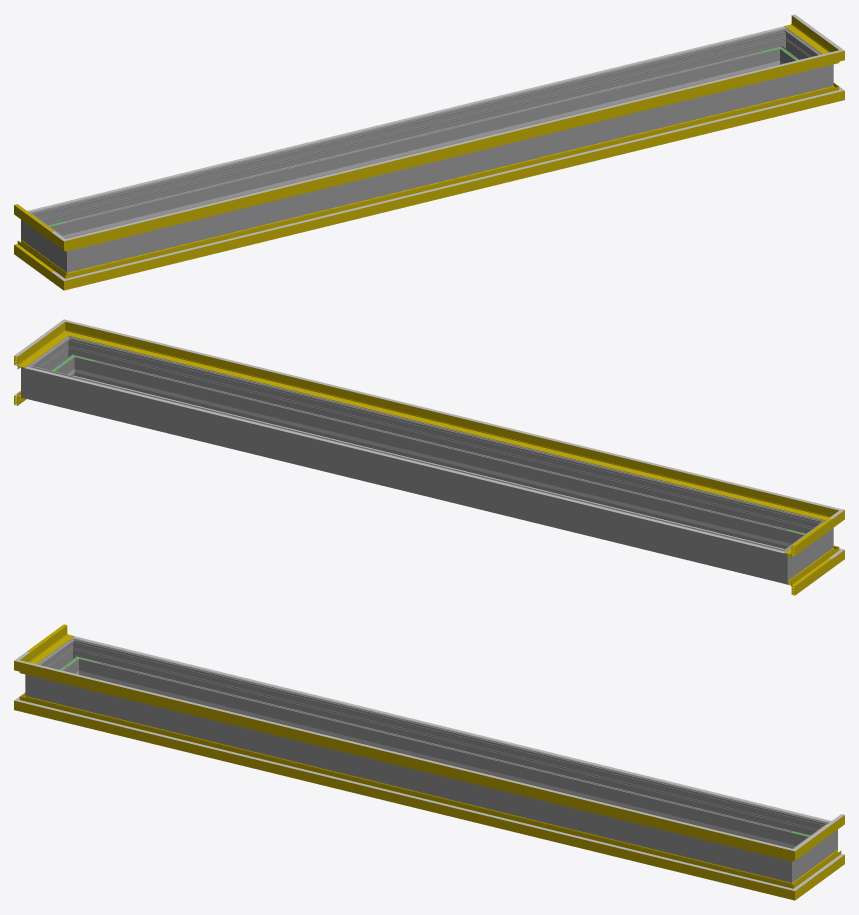
3 renders of one model, top to bottom at view 1: azimuth 30°, elevation 25°; view 2: azimuth 150°, elevation 25°; view 3: azimuth 330°, elevation 25°, orthographic.
Parts seen in each view (by area): view 1: 3DGeom-276, 3DGeom-298, 3DGeom-90, 3DGeom-56, 3DGeom-244, 3DGeom-220, 3DGeom-66, 3DGeom-100, 3DGeom-270, 3DGeom-85, 3DGeom-58, 3DGeom-284 (+1 smaller); view 2: 3DGeom-298, 3DGeom-276, 3DGeom-56, 3DGeom-239, 3DGeom-220, 3DGeom-66, 3DGeom-278, 3DGeom-284, 3DGeom-85, 3DGeom-58, 3DGeom-290, 3DGeom-297; view 3: 3DGeom-276, 3DGeom-298, 3DGeom-90, 3DGeom-56, 3DGeom-244, 3DGeom-220, 3DGeom-66, 3DGeom-100, 3DGeom-290, 3DGeom-97, 3DGeom-50, 3DGeom-278 (+1 smaller).
Part boxes in pixels (bbox=[...]): 3DGeom-276: bbox=[44, 32, 776, 238]; 3DGeom-298: bbox=[88, 70, 811, 267]; 3DGeom-90: bbox=[81, 89, 823, 284]; 3DGeom-56: bbox=[83, 56, 823, 247]; 3DGeom-244: bbox=[70, 66, 758, 237]; 3DGeom-220: bbox=[27, 26, 785, 212]; 3DGeom-66: bbox=[84, 55, 822, 235]; 3DGeom-100: bbox=[84, 94, 822, 275]; 3DGeom-270: bbox=[54, 235, 88, 272]; 3DGeom-85: bbox=[14, 239, 58, 280]; 3DGeom-58: bbox=[784, 15, 828, 53]; 3DGeom-284: bbox=[768, 28, 796, 65]; 3DGeom-298: bbox=[78, 340, 809, 549]; 3DGeom-276: bbox=[42, 369, 769, 579]; 3DGeom-56: bbox=[79, 326, 821, 518]; 3DGeom-239: bbox=[95, 374, 783, 545]; 3DGeom-220: bbox=[25, 366, 785, 553]; 3DGeom-66: bbox=[84, 324, 822, 505]; 3DGeom-278: bbox=[766, 543, 800, 584]; 3DGeom-284: bbox=[21, 359, 46, 402]; 3DGeom-85: bbox=[787, 554, 832, 595]; 3DGeom-58: bbox=[14, 329, 61, 369]; 3DGeom-290: bbox=[58, 336, 86, 376]; 3DGeom-297: bbox=[37, 343, 72, 375]; 3DGeom-276: bbox=[82, 642, 814, 848]; 3DGeom-298: bbox=[47, 680, 770, 877]; 3DGeom-90: bbox=[35, 699, 777, 894]; 3DGeom-56: bbox=[35, 666, 775, 857]; 3DGeom-244: bbox=[100, 676, 788, 847]; 3DGeom-220: bbox=[73, 636, 831, 822]; 3DGeom-66: bbox=[36, 665, 774, 845]; 3DGeom-100: bbox=[36, 704, 774, 885]; 3DGeom-290: bbox=[770, 845, 804, 882]; 3DGeom-97: bbox=[800, 849, 844, 890]; 3DGeom-50: bbox=[30, 625, 74, 663]; 3DGeom-278: bbox=[62, 638, 90, 675].
Bounding box in the file's own units: 5.49 × 0.3303 × 0.6096.
